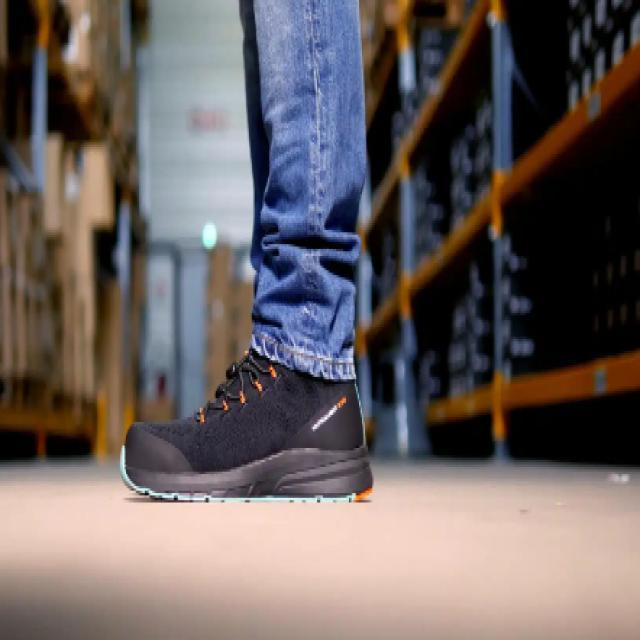boots: (117, 328, 380, 510)
